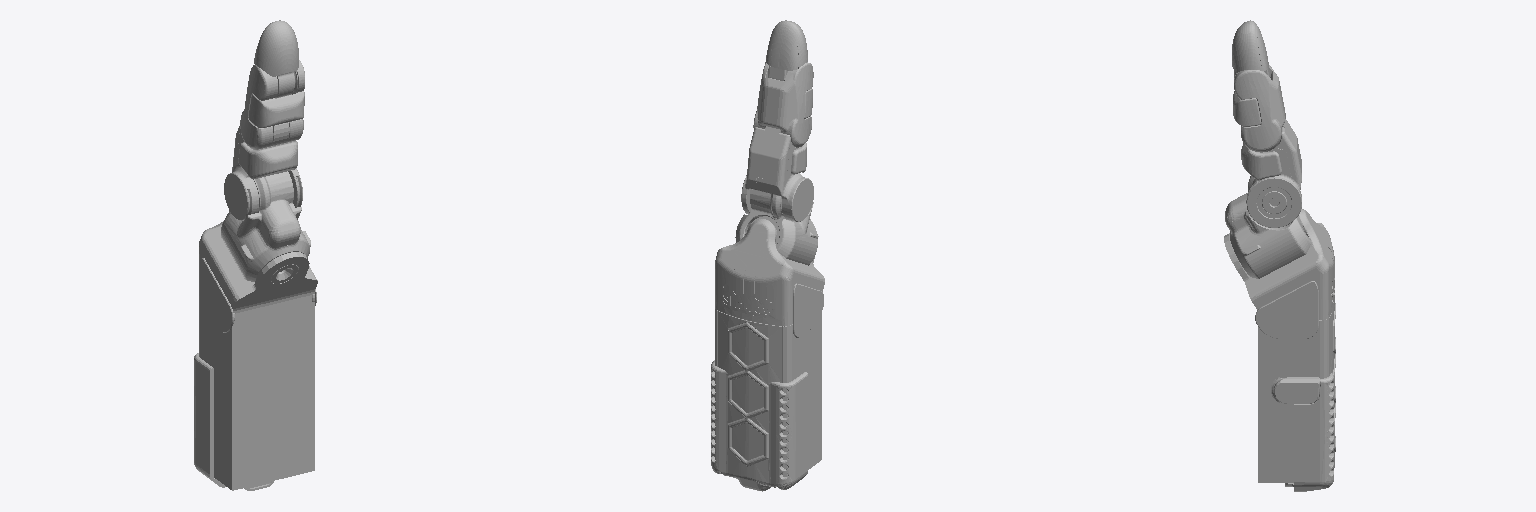
robot.urdf — dexee_finger:
<robot name="dexee_finger">
<!-- F0 Links -->
  <link name="F0_base">
    <inertial>
      <origin
        xyz="0.00004454 0.00736569 0.08093736"
        rpy="0 0 0" />
      <mass
        value="0.89937782" />
      <inertia
        ixx="0.00186283"
        ixy="-0.00000176"
        ixz="-0.00000296"
        iyy="0.00181365"
        iyz="0.00004212"
        izz="0.00058221" />
    </inertial>
    <visual>
      <origin
        xyz="0 0 0"
        rpy="0 0 0" />
      <geometry>
        <mesh
          filename="meshes/F0_base.dae" />
      </geometry>
      <material
        name="">
        <color
          rgba="0.75294 0.75294 0.75294 1" />
      </material>
    </visual>
    <collision>
      <origin
        xyz="0 0 0"
        rpy="0 0 0" />
      <geometry>
        <mesh
          filename="meshes/collision/F0_base.stl" />
      </geometry>
    </collision>
  </link>
  <link name="F0_J0_link">
    <inertial>
      <origin
        xyz="-0.00017293 -0.01537184 0.00956679"
        rpy="0 0 0" />
      <mass
        value="0.13077995" />
      <inertia
        ixx="0.00005895"
        ixy="0.00000007"
        ixz="0.00000064"
        iyy="0.00004702"
        iyz="-0.00000971"
        izz="0.00003911" />
    </inertial>
    <visual>
      <origin
        xyz="0 0 0"
        rpy="0 0 0" />
      <geometry>
        <mesh
          filename="meshes/F0_J0_link.dae" />
      </geometry>
      <material
        name="">
        <color
          rgba="0.75294 0.75294 0.75294 1" />
      </material>
    </visual>
    <collision>
      <origin
        xyz="0 0 0"
        rpy="0 0 0" />
      <geometry>
        <mesh
          filename="meshes/collision/F0_J0_link.stl" />
      </geometry>
    </collision>
  </link>
  <link name="F0_proximal">
    <inertial>
      <origin
        xyz="-0.00020256 0.0024322 0.02375091"
        rpy="0 0 0" />
      <mass
        value="0.09614332" />
      <inertia
        ixx="0.00004332"
        ixy="-0.00000017"
        ixz="-0.00000349"
        iyy="0.00004756"
        iyz="0.00000055"
        izz="0.00002008" />
    </inertial>
    <visual>
      <origin
        xyz="0 0 0"
        rpy="0 0 0" />
      <geometry>
        <mesh
          filename="meshes/F0_proximal.dae" />
      </geometry>
      <material
        name="">
        <color
          rgba="0.75294 0.75294 0.75294 1" />
      </material>
    </visual>
    <collision>
      <origin
        xyz="0 0 0"
        rpy="0 0 0" />
      <geometry>
        <mesh
          filename="meshes/collision/F0_proximal.stl" />
      </geometry>
    </collision>
  </link>
  <link name="F0_middle">
    <inertial>
      <origin
        xyz="-0.00026744 -0.00004338 0.01669764"
        rpy="0 0 0" />
      <mass
        value="0.05585897" />
      <inertia
        ixx="0.00001447"
        ixy="-0.00000005"
        ixz="-0.00000004"
        iyy="0.00001686"
        iyz="-0.00000007"
        izz="0.00000973" />
    </inertial>
    <visual>
      <origin
        xyz="0 0 0"
        rpy="0 0 0" />
      <geometry>
        <mesh
          filename="meshes/F0_middle.dae" />
      </geometry>
      <material
        name="">
        <color
          rgba="0.75294 0.75294 0.75294 1" />
      </material>
    </visual>
    <collision>
      <origin
        xyz="0 0 0"
        rpy="0 0 0" />
      <geometry>
        <mesh
          filename="meshes/collision/F0_middle.stl" />
      </geometry>
    </collision>
  </link>
  <link name="F0_distal">
    <inertial>
      <origin
        xyz="0.00084325 0.00164346 0.01482169"
        rpy="0 0 0" />
      <mass
        value="0.02766365" />
      <inertia
        ixx="0.0000051"
        ixy="0"
        ixz="0.00000028"
        iyy="0.00000506"
        iyz="-0.00000034"
        izz="0.00000198" />
    </inertial>
    <visual>
      <origin
        xyz="0 0 0"
        rpy="0 0 0" />
      <geometry>
        <mesh
          filename="meshes/F0_distal.dae" />
      </geometry>
      <material
        name="">
        <color
          rgba="0.75294 0.75294 0.75294 1" />
      </material>
    </visual>
    <collision>
      <origin
        xyz="0 0 0"
        rpy="0 0 0" />
      <geometry>
        <mesh
          filename="meshes/collision/F0_distal.stl" />
      </geometry>
    </collision>
  </link>

<!-- F0 Joints -->
  <joint name="F0_J0"
    type="revolute">
    <origin
      xyz="0 0.015 0.179"
      rpy="0.5236 0 0" />
    <parent
      link="F0_base" />
    <child
      link="F0_J0_link" />
    <axis
        xyz="0 -1 0" />
    <limit
        lower="-0.959"
        upper="0.959"
        effort="1.5"
        velocity="2" />
    <safety_controller
        soft_upper="0.95"
        soft_lower="-0.95"
        k_velocity="0" />
  </joint>
  <joint name="F0_J1"
    type="revolute">
    <origin
      xyz="0 0 0.03"
      rpy="-0.3491 0 0" />
    <parent
      link="F0_J0_link" />
    <child
      link="F0_proximal" />
    <axis
        xyz="1 0 0" />
    <limit
      lower="-1.396"
      upper="0.785"
      effort="1.2"
      velocity="2" />
    <safety_controller
      soft_upper="0.78"
      soft_lower="-1.39"
      k_velocity="0" />
  </joint>
  <joint name="F0_J2"
    type="revolute">
    <origin
      xyz="0 0 0.05"
      rpy="0 0 0" />
    <parent
      link="F0_proximal" />
    <child
      link="F0_middle" />
    <axis
        xyz="1 0 0" />
    <limit
        lower="0"
        upper="1.396"
        effort="0.7"
        velocity="2" />
    <safety_controller
        soft_upper="1.39"
        soft_lower="0"
        k_velocity="0" />
  </joint>
  <joint name="F0_J3"
    type="revolute">
    <origin
      xyz="0 0 0.035"
      rpy="0 0 0" />
    <parent
      link="F0_middle" />
    <child
      link="F0_distal" />
    <axis
        xyz="1 0 0" />
    <limit
        lower="-0.523"
        upper="1.485"
        effort="0.35" 
        velocity="0.2" />
    <safety_controller
        soft_upper="1.47"
        soft_lower="-0.51"
        k_velocity="0" />
  </joint>

</robot>

--- What the picture shows (computed from the rendered views, not written in the file) ---
3 views of the same robot in one strip: view 1: azimuth 30°, elevation 25°; view 2: azimuth 150°, elevation 25°; view 3: azimuth 270°, elevation 25° (orthographic).
Robot: dexee_finger — 5 links, 4 joints (4 revolute); root link F0_base; default pose: every joint at zero.
Visible links, largest first — view 1: F0_base, F0_J0_link, F0_proximal, F0_middle, F0_distal; view 2: F0_base, F0_proximal, F0_middle, F0_J0_link, F0_distal; view 3: F0_base, F0_J0_link, F0_proximal, F0_middle, F0_distal.
Link boxes in pixels (<box>): F0_base: <box>194,221,317,490</box>; F0_J0_link: <box>221,171,310,283</box>; F0_proximal: <box>224,122,302,220</box>; F0_middle: <box>240,60,304,149</box>; F0_distal: <box>254,20,298,97</box>; F0_base: <box>711,219,824,491</box>; F0_proximal: <box>741,126,813,221</box>; F0_middle: <box>753,62,813,147</box>; F0_J0_link: <box>735,189,818,265</box>; F0_distal: <box>766,20,807,80</box>; F0_base: <box>1224,209,1335,491</box>; F0_J0_link: <box>1225,176,1310,278</box>; F0_proximal: <box>1241,119,1301,227</box>; F0_middle: <box>1233,65,1285,152</box>; F0_distal: <box>1232,20,1269,79</box>.
Bounding box of the posed robot: 0.067 × 0.0746 × 0.3361 m (x, y, z).
5 mesh visuals loaded from 5 distinct referenced files (5 Collada DAE).